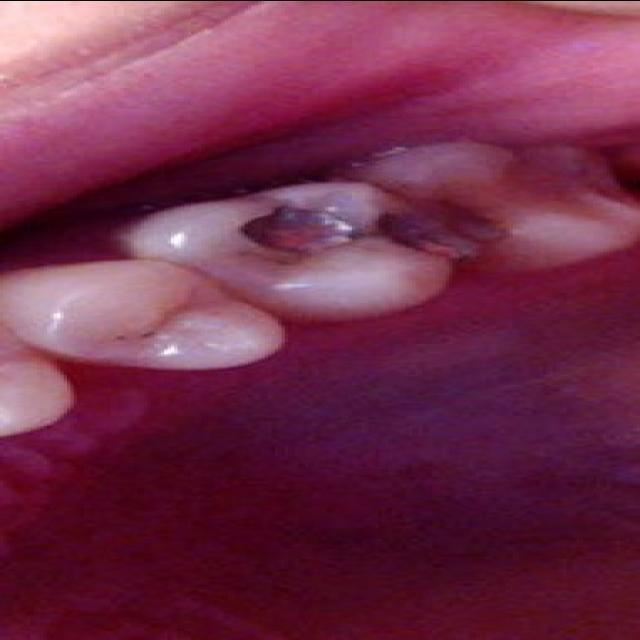Cavity: (231, 198, 467, 256)
decay: (109, 328, 164, 340)
